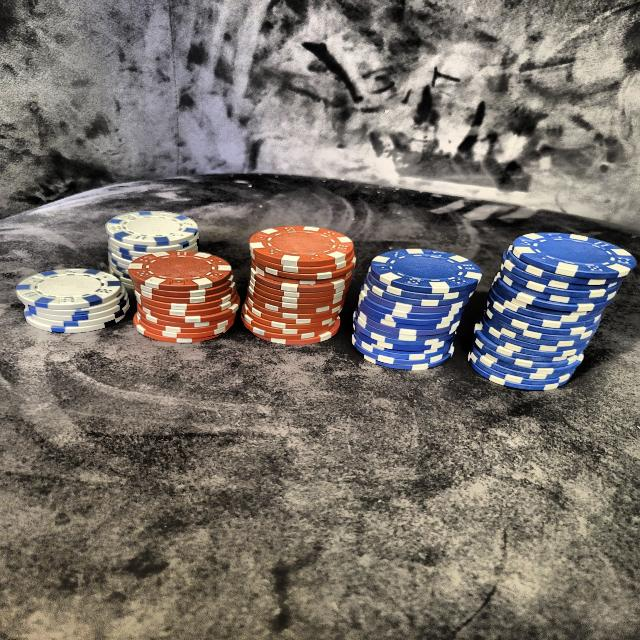Chip: (471, 212, 625, 400), (348, 235, 487, 375), (239, 211, 362, 353), (107, 220, 237, 338), (17, 250, 140, 345), (106, 202, 213, 300)
